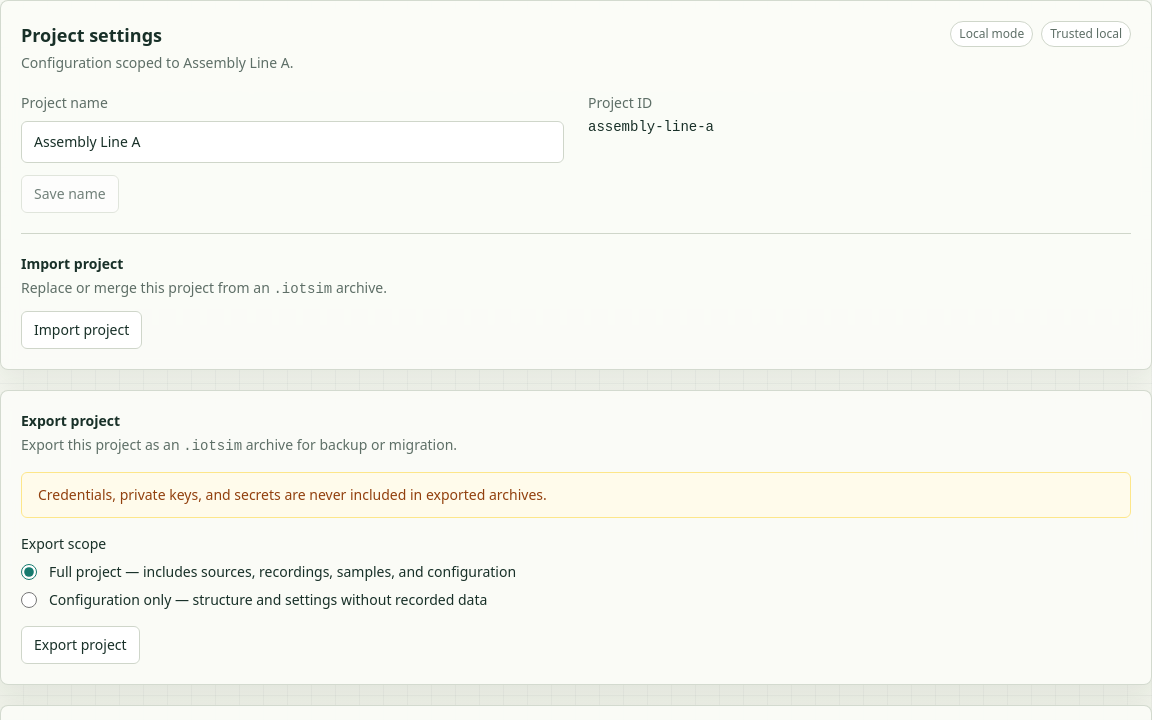
it: project name — Admin (local mode) › shows Saved badge after successful save
Replace the text in the field with "Renamed Project" at (292,142), box [21,121,564,163]
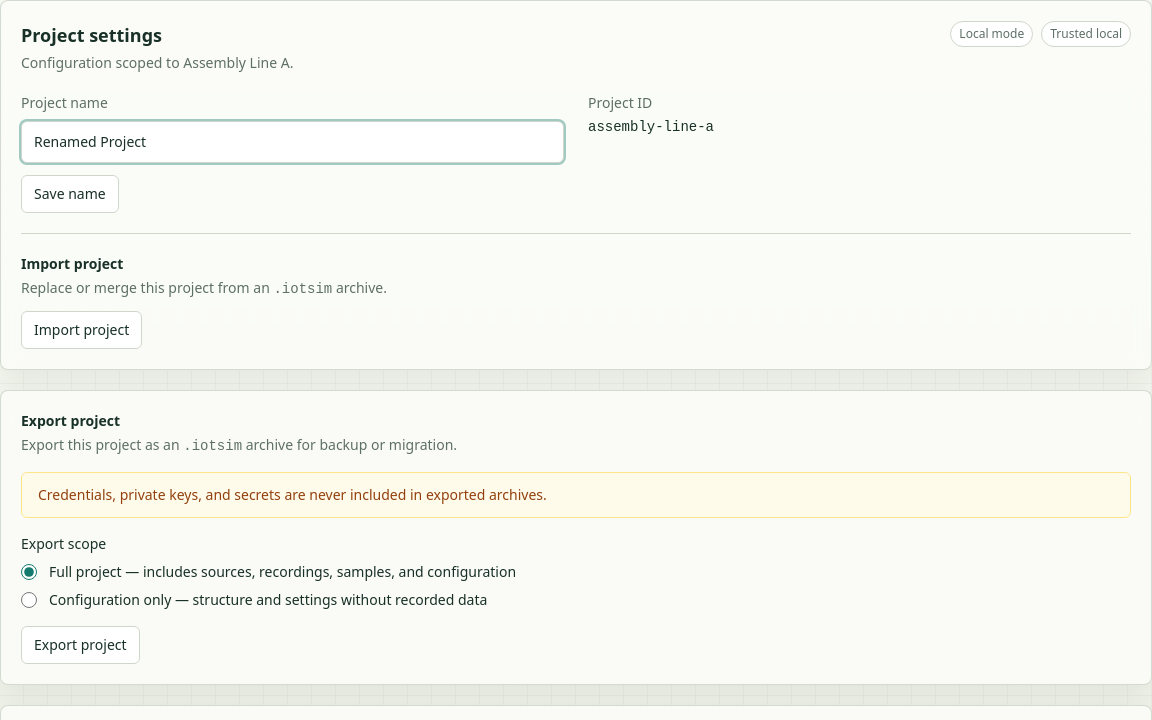
Click the button "Save name".
click(70, 194)  # box [21,175,119,213]
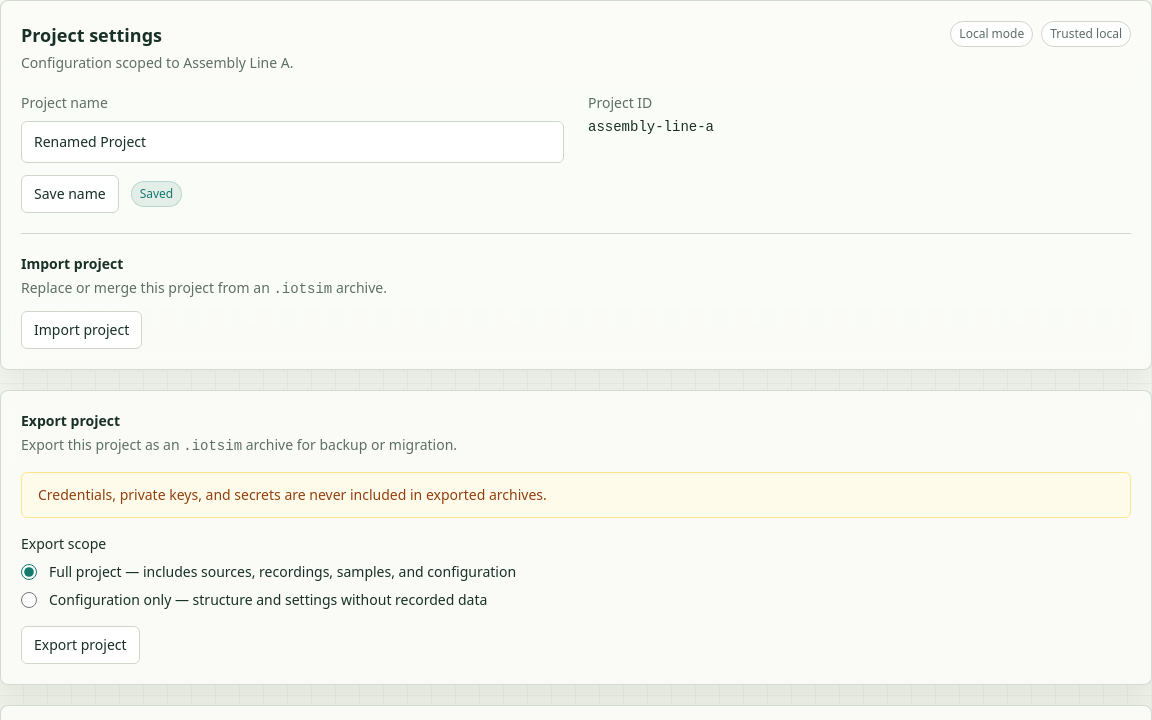
Expected: the text "Saved" is shown, [131,181,182,207]
